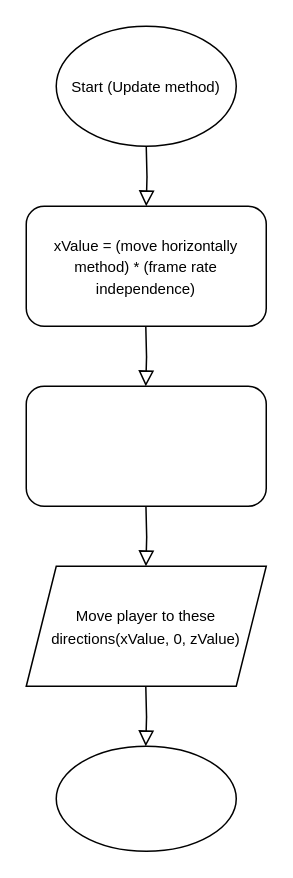
This 293x878 diagram has some shape labels left out. Each missing label, with the centre of its shape:
End (Update method): point 145,798
zValue = (move vertically method) * (frame rate independence): point 145,445
